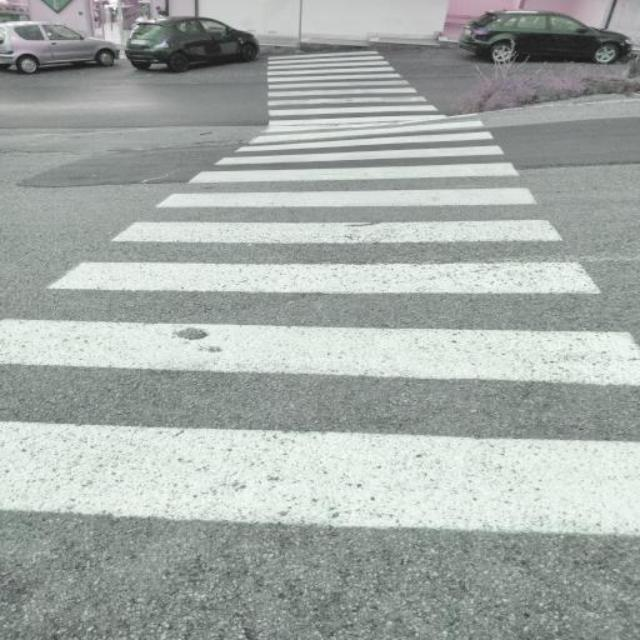sidewalk: (0, 48, 640, 533)
